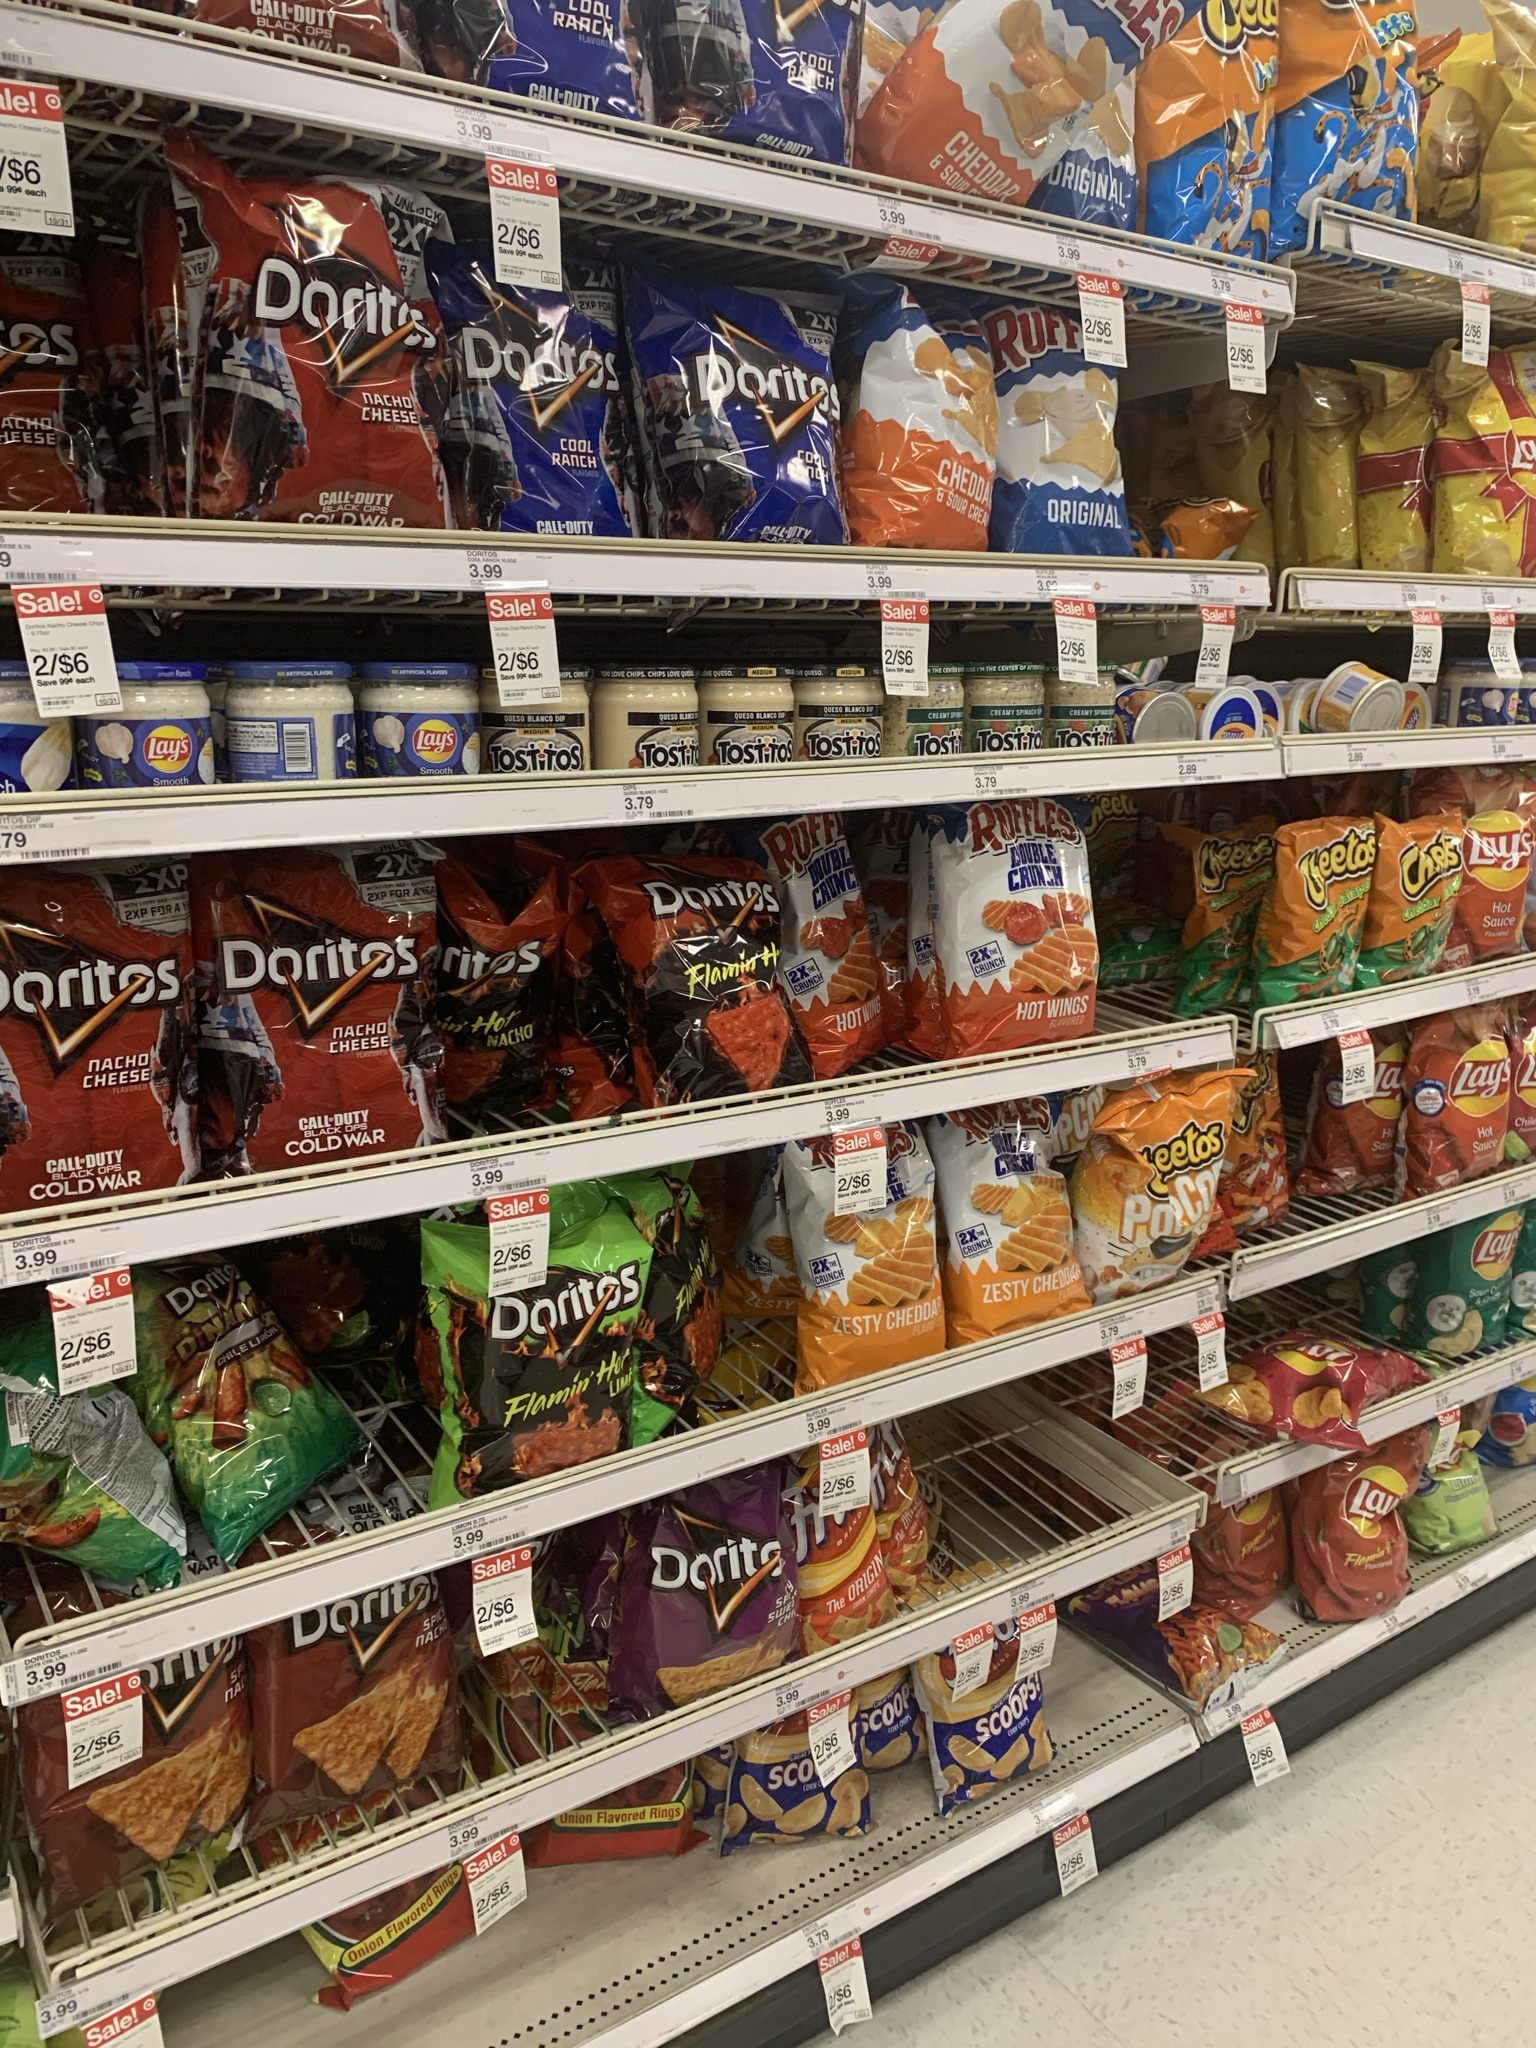chip: (160, 144, 447, 552), (186, 868, 431, 1177), (436, 218, 653, 558), (415, 1219, 662, 1487), (2, 863, 198, 1187), (47, 1592, 248, 1893), (624, 282, 847, 552), (623, 872, 803, 1108), (845, 285, 997, 564), (941, 811, 1099, 1064), (261, 1593, 445, 1808), (986, 300, 1136, 558), (637, 1487, 808, 1705), (765, 805, 897, 1082), (799, 1148, 949, 1385), (436, 868, 570, 1132), (1110, 1077, 1225, 1324), (1400, 1008, 1517, 1200), (1312, 1419, 1426, 1605), (1273, 827, 1373, 1022), (1383, 832, 1459, 989)
